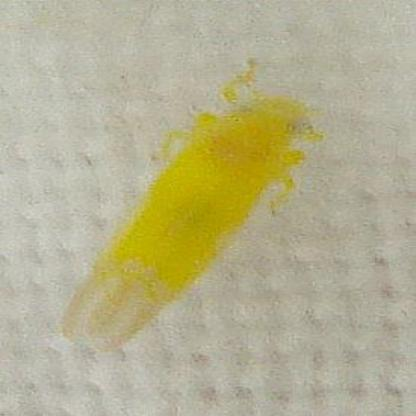green-leafhopper: (70, 76, 331, 352)
